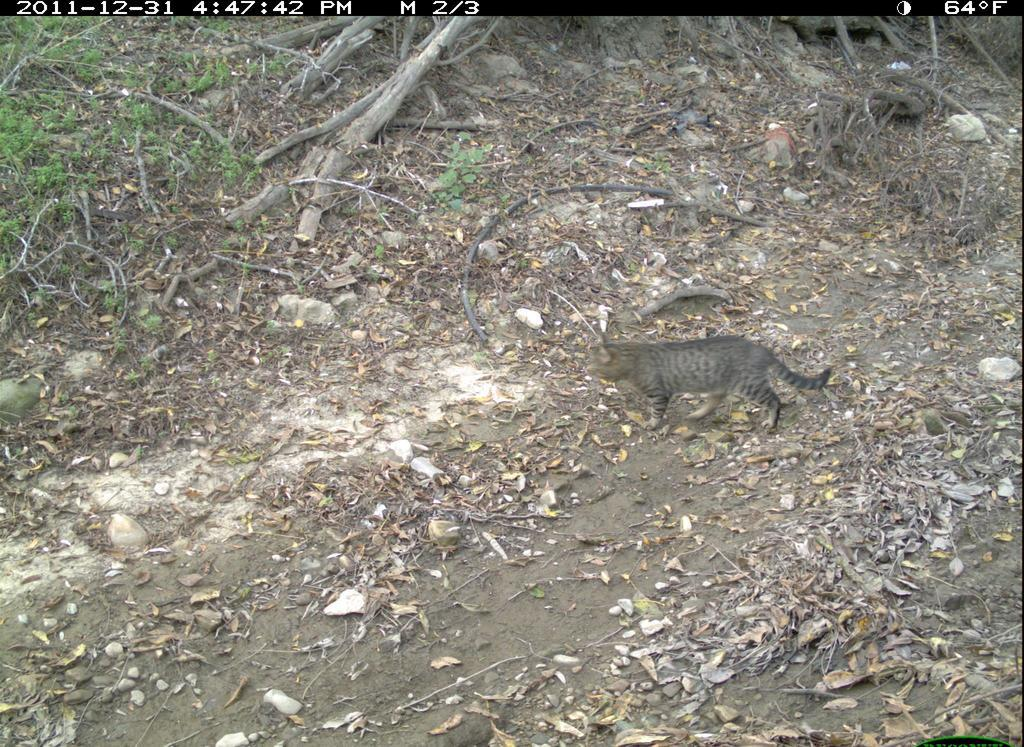cat: (585, 286, 856, 451)
